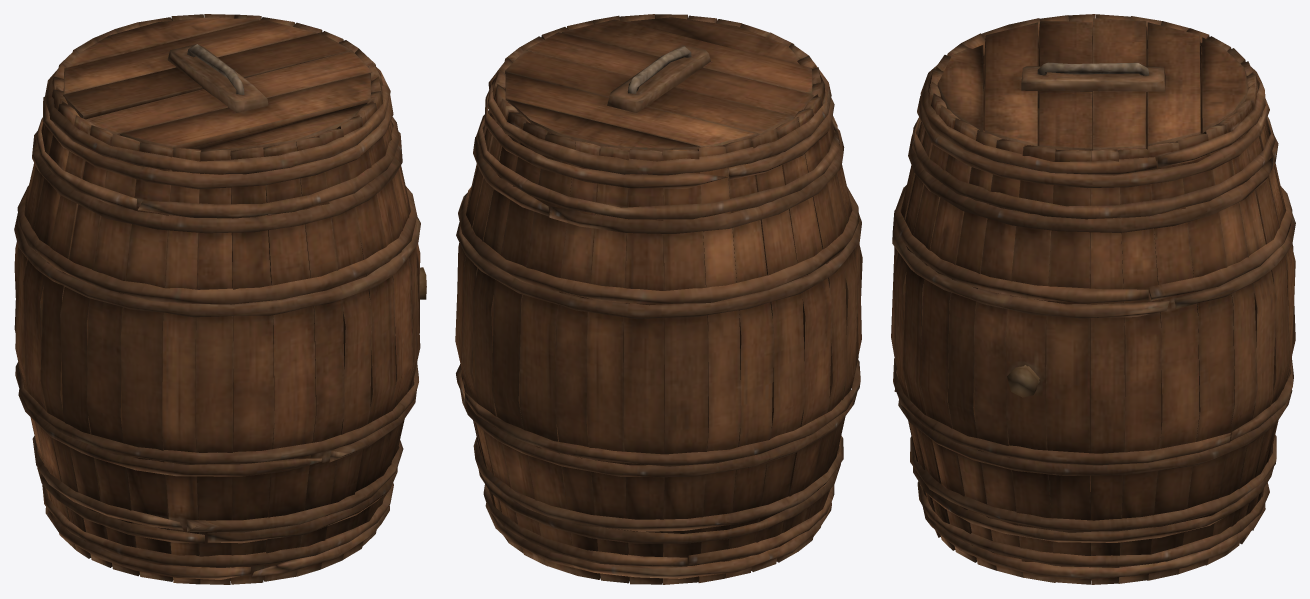
The model's file is wooden_barrels_01_barrel01.gltf.
3 views of the same model, side by side, from view 1: azimuth 30°, elevation 25°; view 2: azimuth 150°, elevation 25°; view 3: azimuth 270°, elevation 25° (orthographic).
Visible parts, largest first — view 1: wooden_barrels_01_barrel01__x; view 2: wooden_barrels_01_barrel01__x; view 3: wooden_barrels_01_barrel01__x.
Part boxes in pixels (box(x1,y1,x2,y2)): wooden_barrels_01_barrel01__x: box(14, 14, 426, 584); wooden_barrels_01_barrel01__x: box(455, 14, 862, 584); wooden_barrels_01_barrel01__x: box(891, 14, 1295, 584).
Bounding box in the file's own units: 0.7411 × 0.9185 × 0.7413.
1 material, 1 textured.
